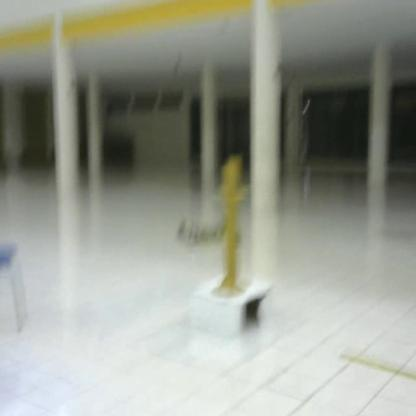pole: (212, 154, 252, 304)
